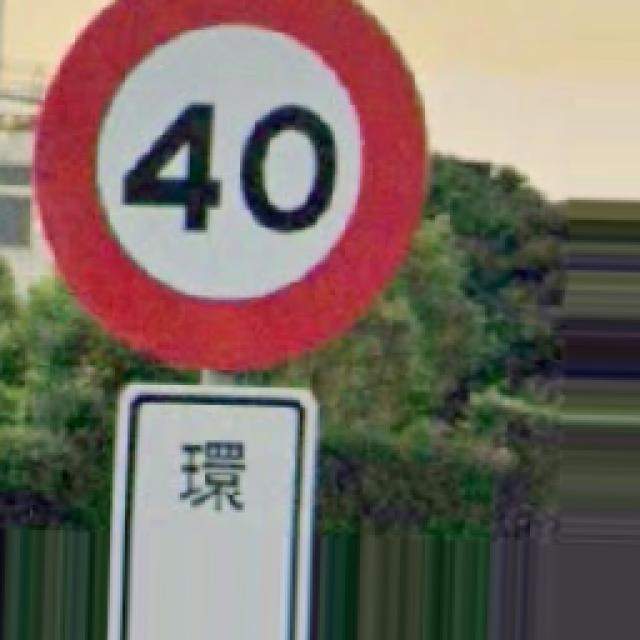Speed Limit -40-: (35, 0, 422, 365)
